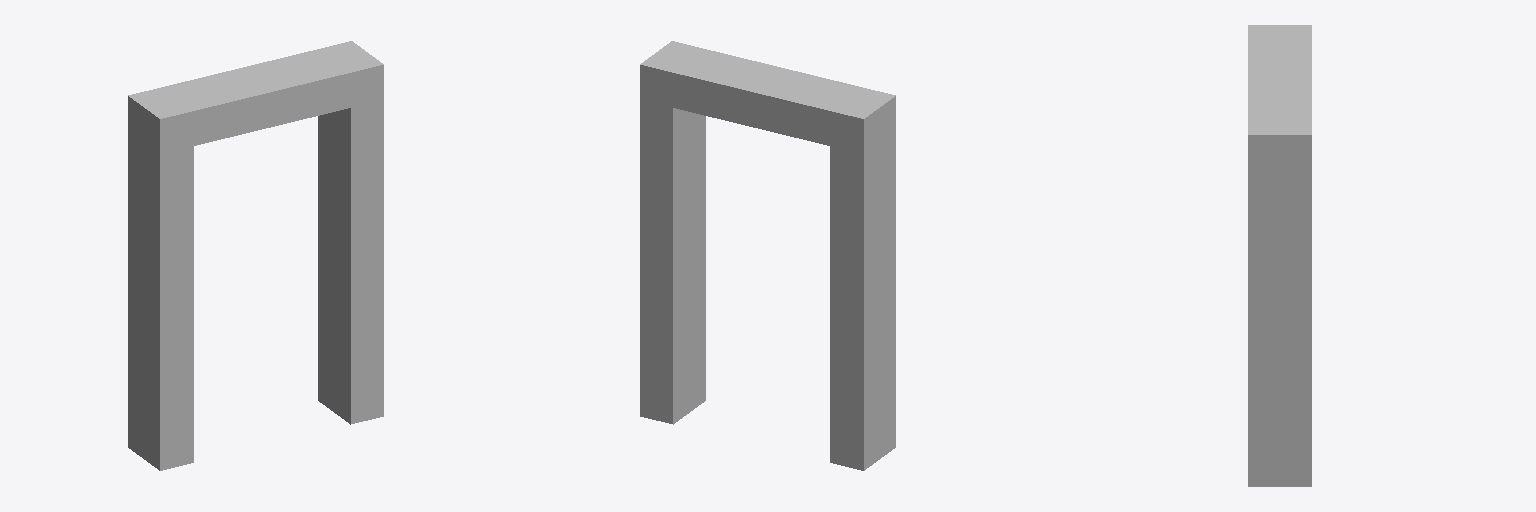
The model's file is doorFrame.obj.
3 renders of one model, left to right at view 1: azimuth 30°, elevation 25°; view 2: azimuth 150°, elevation 25°; view 3: azimuth 270°, elevation 25°, orthographic.
Visible parts, largest first — view 1: Cube; view 2: Cube; view 3: Cube.
Boxes of the visible parts, x1=… form: Cube: x1=128, y1=41, x2=383, y2=470; Cube: x1=640, y1=41, x2=895, y2=470; Cube: x1=1248, y1=25, x2=1311, y2=486.
Size of the model in its own units: 2 by 3 by 0.5.